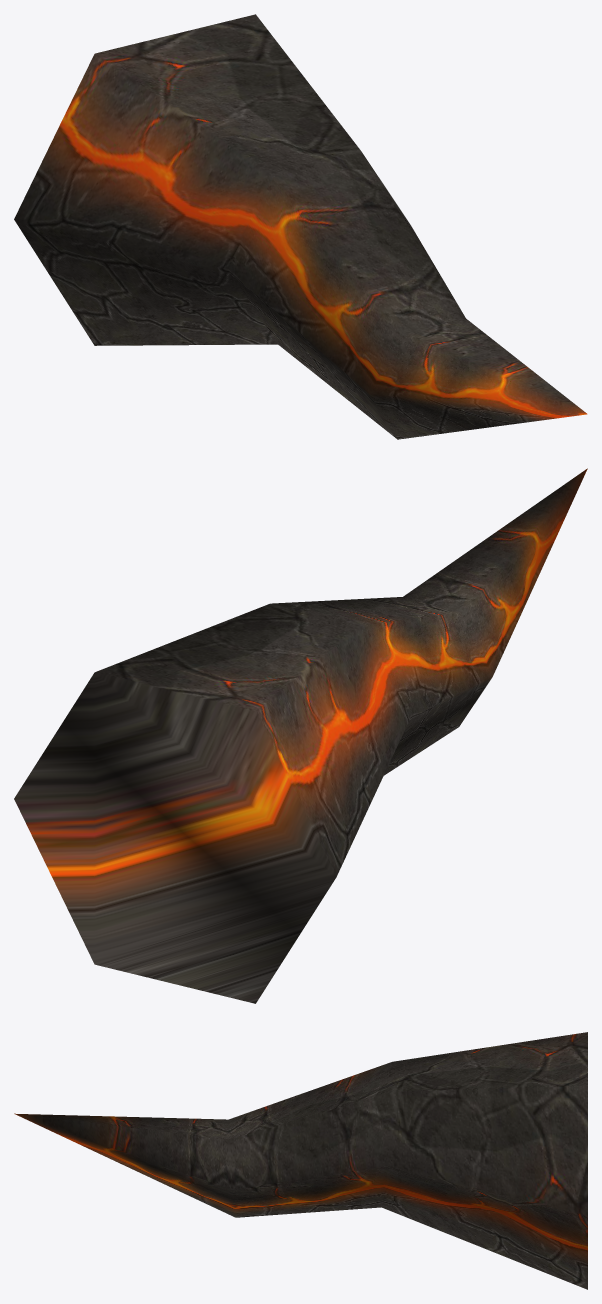
File: stalagmite_12.obj
3 renders of one model, top to bottom at view 1: azimuth 30°, elevation 25°; view 2: azimuth 150°, elevation 25°; view 3: azimuth 270°, elevation 25°, orthographic. The views are drawn at different scales.
Parts seen in each view (by area): view 1: (null); view 2: (null); view 3: (null).
Part boxes in pixels (x1,y1,x2,y2): (null): [14, 14, 587, 439]; (null): [14, 468, 587, 1003]; (null): [14, 1032, 587, 1289].
Bounding box in the file's own units: 2.64 × 2.28 × 5.85.
